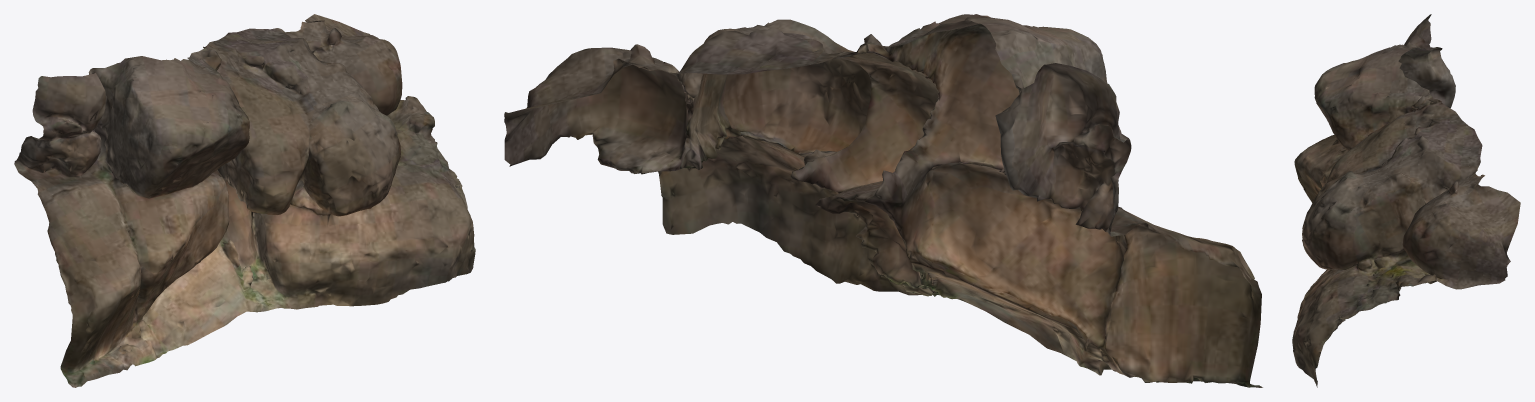
File: cliff-sandstone.6be91736.glb
The picture shows the model from 3 angles, left to right: view 1: azimuth 30°, elevation 25°; view 2: azimuth 150°, elevation 25°; view 3: azimuth 270°, elevation 25°; orthographic projection. The views are drawn at different scales.
Parts seen in each view (by area): view 1: model; view 2: model; view 3: model.
Part boxes in pixels (x1,y1,x2,y2): model: (14, 14, 475, 387); model: (504, 14, 1262, 387); model: (1292, 14, 1520, 387).
Bounding box in the file's own units: 8.28 × 4.96 × 4.39.
Materials: 1 (1 with a texture image).
